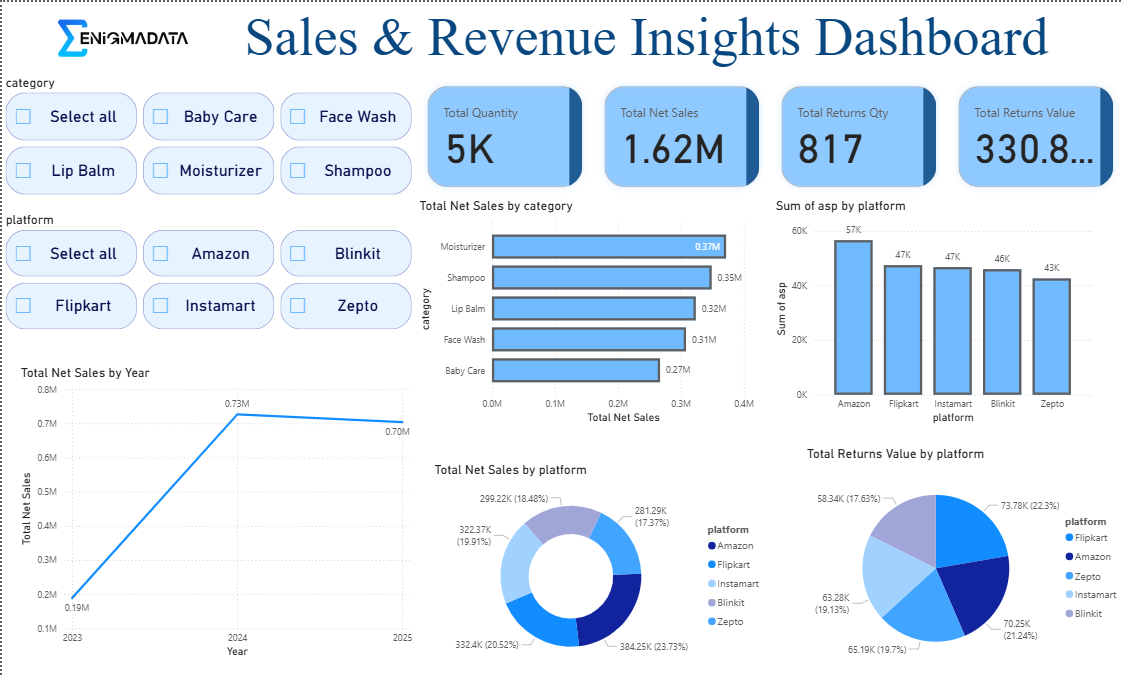

What the dashboard file says about the page in this screenshot:
{"tool":"powerbi","page":{"name":"Page 1","canvas":[1500,900],"ordinal":0},"visuals":[{"type":"cardVisual","fields":{"Data":["EnigmaData_Data_Analyst_Sample_Data.Total Quantity","EnigmaData_Data_Analyst_Sample_Data.Total Net Sales","EnigmaData_Data_Analyst_Sample_Data.Total Returns Qty","EnigmaData_Data_Analyst_Sample_Data.Total Returns Value"]},"box":[552,96,948,166],"z":0},{"type":"textbox","box":[317.8,0,1157.8,100],"z":1000},{"type":"image","box":[0,0,317.8,95.6],"z":2000},{"type":"clusteredColumnChart","fields":{"Category":["EnigmaData_Data_Analyst_Sample_Data.platform"],"Y":["Sum(EnigmaData_Data_Analyst_Sample_Data.asp)"]},"box":[1026,262,432,306],"z":3000},{"type":"pieChart","fields":{"Category":["EnigmaData_Data_Analyst_Sample_Data.platform"],"Y":["EnigmaData_Data_Analyst_Sample_Data.Total Returns Value"]},"box":[1068,592,432,308],"z":4000},{"type":"donutChart","fields":{"Y":["EnigmaData_Data_Analyst_Sample_Data.Total Net Sales"],"Category":["EnigmaData_Data_Analyst_Sample_Data.platform"]},"box":[572,614,452,286],"z":5000},{"type":"clusteredBarChart","fields":{"Category":["EnigmaData_Data_Analyst_Sample_Data.category"],"Y":["EnigmaData_Data_Analyst_Sample_Data.Total Net Sales"]},"box":[552,262,472,306],"z":6000},{"type":"advancedSlicerVisual","fields":{"Values":["EnigmaData_Data_Analyst_Sample_Data.category"]},"box":[0,96,552,166],"z":7000},{"type":"advancedSlicerVisual","fields":{"Values":["EnigmaData_Data_Analyst_Sample_Data.platform"]},"box":[0,280,551.7,161.7],"z":8000},{"type":"lineChart","fields":{"Category":["EnigmaData_Data_Analyst_Sample_Data.Year"],"Y":["EnigmaData_Data_Analyst_Sample_Data.Total Net Sales"]},"box":[20,484,532,396],"z":9000}]}

Visuals, with their boxes in screenshot pixels (x1, y1, x2, y2), scaled from the page's 1500x900 canvas onto the 1123x676 screenshot:
cardVisual - EnigmaData_Data_Analyst_Sample_Data.Total Quantity x EnigmaData_Data_Analyst_Sample_Data.Total Net Sales: select_region(413, 72, 1122, 197)
textbox: select_region(238, 0, 1105, 75)
image: select_region(0, 0, 238, 72)
clusteredColumnChart - EnigmaData_Data_Analyst_Sample_Data.platform x Sum(EnigmaData_Data_Analyst_Sample_Data.asp): select_region(768, 197, 1092, 427)
pieChart - EnigmaData_Data_Analyst_Sample_Data.platform x EnigmaData_Data_Analyst_Sample_Data.Total Returns Value: select_region(800, 445, 1122, 675)
donutChart - EnigmaData_Data_Analyst_Sample_Data.Total Net Sales x EnigmaData_Data_Analyst_Sample_Data.platform: select_region(428, 461, 767, 675)
clusteredBarChart - EnigmaData_Data_Analyst_Sample_Data.category x EnigmaData_Data_Analyst_Sample_Data.Total Net Sales: select_region(413, 197, 767, 427)
advancedSlicerVisual - EnigmaData_Data_Analyst_Sample_Data.category: select_region(0, 72, 413, 197)
advancedSlicerVisual - EnigmaData_Data_Analyst_Sample_Data.platform: select_region(0, 210, 413, 332)
lineChart - EnigmaData_Data_Analyst_Sample_Data.Year x EnigmaData_Data_Analyst_Sample_Data.Total Net Sales: select_region(15, 364, 413, 661)
